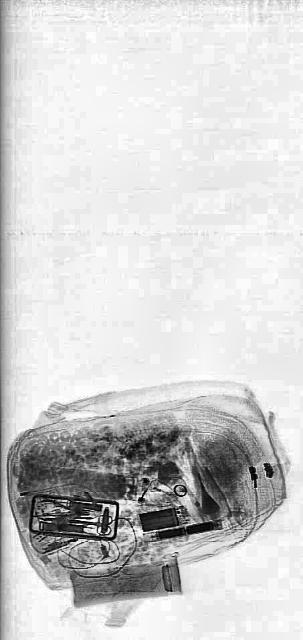Scissors: (74, 509, 112, 537)
